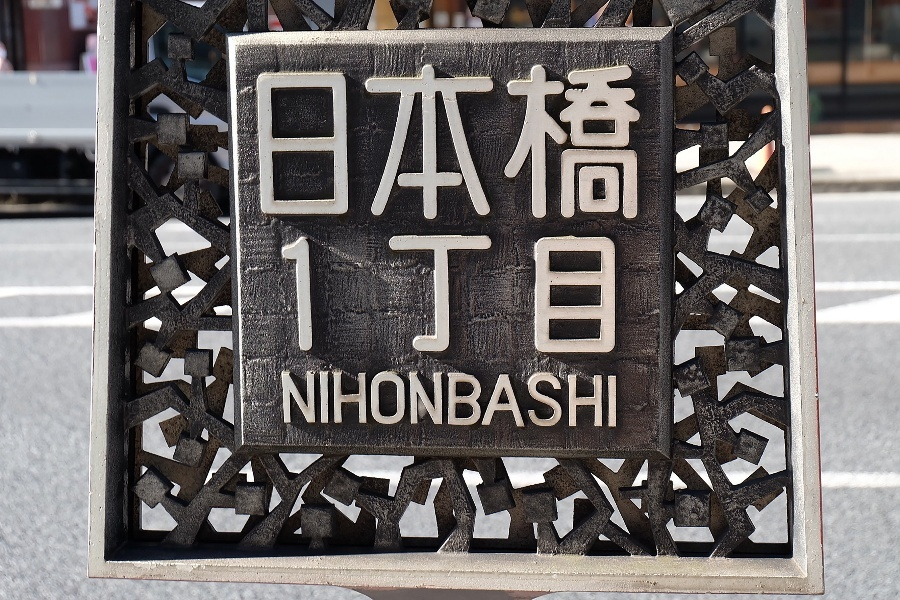text: (257, 61, 272, 227), (273, 61, 288, 227), (289, 61, 304, 227), (305, 61, 320, 227), (321, 61, 336, 227), (337, 61, 352, 227), (353, 61, 368, 227), (369, 61, 384, 227), (385, 61, 400, 227), (401, 61, 416, 227), (417, 61, 432, 227), (433, 61, 448, 227), (449, 61, 464, 227), (465, 61, 480, 227), (481, 61, 496, 227), (497, 61, 512, 227), (513, 61, 528, 227), (529, 61, 544, 227), (545, 61, 560, 227), (561, 61, 576, 227), (577, 61, 592, 227), (593, 61, 608, 227), (609, 61, 624, 227), (625, 61, 640, 227), (289, 236, 304, 361), (305, 236, 320, 361), (321, 236, 336, 361), (337, 236, 352, 361), (353, 236, 368, 361), (369, 236, 384, 361), (385, 236, 400, 361), (401, 236, 416, 361), (417, 236, 432, 361), (433, 236, 448, 361), (449, 236, 464, 361), (465, 236, 480, 361), (481, 236, 496, 361), (497, 236, 512, 361), (513, 236, 528, 361), (529, 236, 544, 361), (545, 236, 560, 361), (561, 236, 576, 361), (577, 236, 592, 361), (593, 236, 608, 361), (609, 236, 624, 361), (274, 236, 288, 361), (289, 367, 304, 436), (305, 367, 320, 436), (321, 367, 336, 436), (337, 367, 352, 436), (353, 367, 368, 436), (369, 367, 384, 436), (385, 367, 400, 436), (401, 367, 416, 436), (417, 367, 432, 436), (433, 367, 448, 436), (449, 367, 464, 436), (465, 367, 480, 436), (481, 367, 496, 436), (497, 367, 512, 436), (513, 367, 528, 436), (529, 367, 544, 436), (545, 367, 560, 436), (561, 367, 576, 436), (577, 367, 592, 436), (593, 367, 608, 436), (609, 367, 624, 436), (250, 61, 256, 227), (274, 367, 288, 436), (641, 61, 645, 227)
